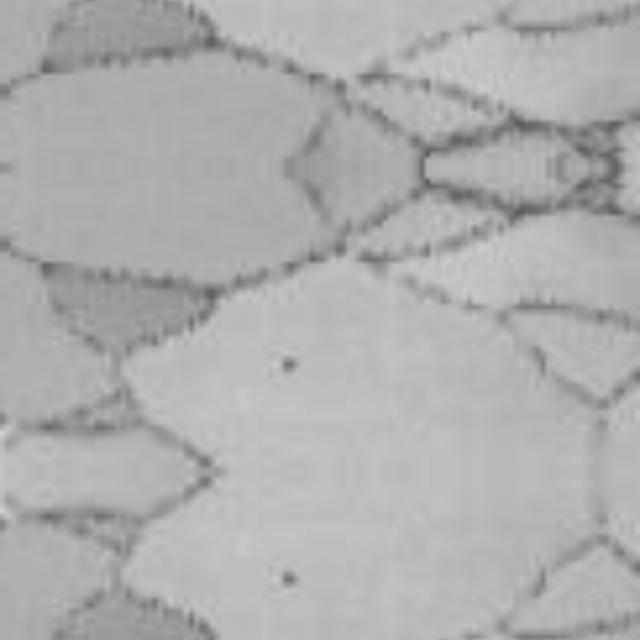good_void: (262, 343, 315, 393), (262, 553, 315, 603)
